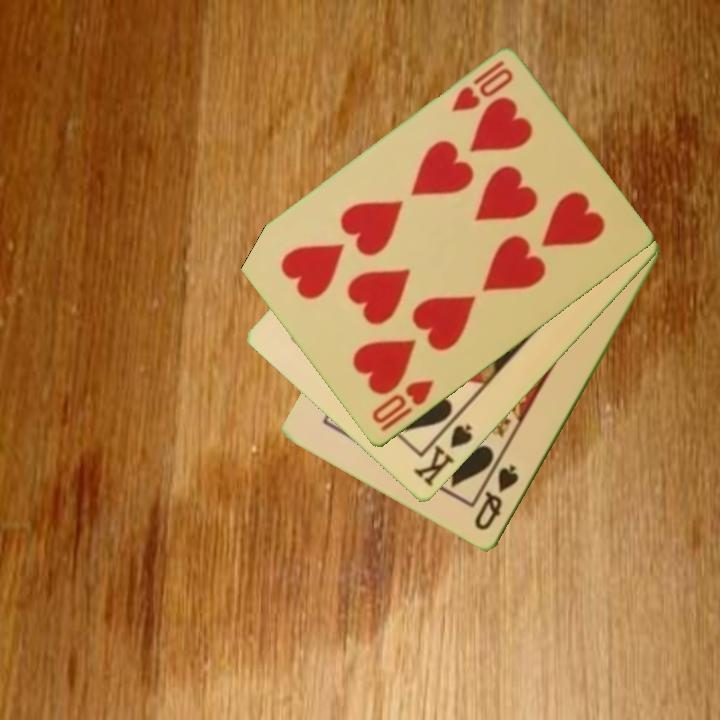10h: (447, 57, 516, 116), (368, 376, 437, 428)
Ks: (409, 412, 476, 490)
Qs: (471, 461, 522, 534)
